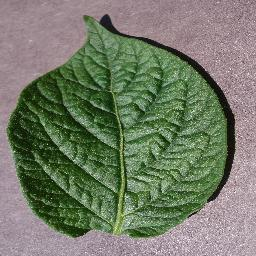Potato_healthy: (6, 16, 227, 239)
